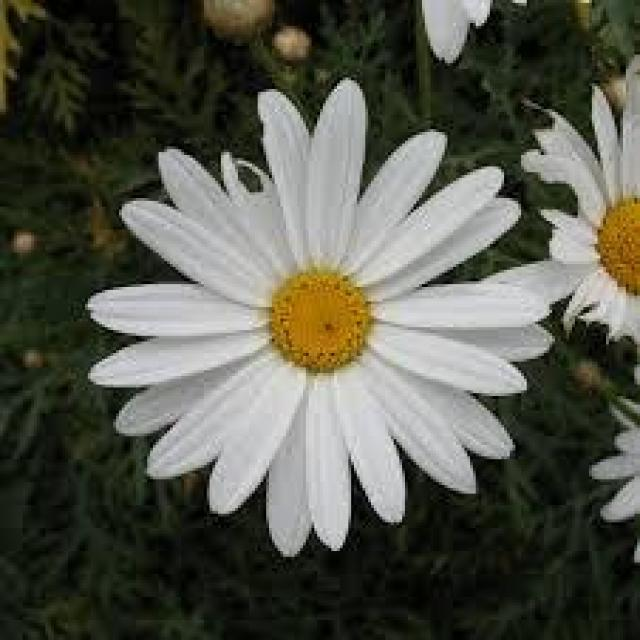organic waste: (84, 79, 562, 555)
